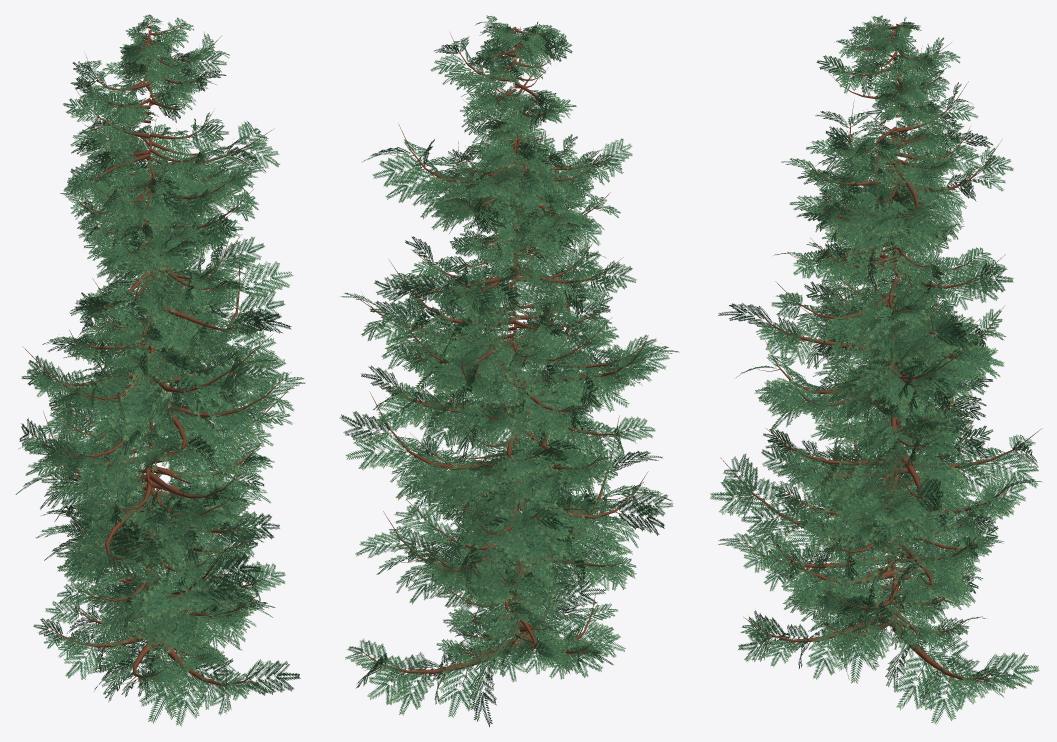
Rendered from forest-redwood-lod0.glb.
3 renders of one model, left to right at view 1: azimuth 30°, elevation 25°; view 2: azimuth 150°, elevation 25°; view 3: azimuth 270°, elevation 25°, orthographic. The views are drawn at different scales.
Visible parts, largest first — view 1: redwood-crown; view 2: redwood-crown; view 3: redwood-crown.
Boxes of the visible parts, x1=… form: redwood-crown: x1=15, y1=14, x2=305, y2=726; redwood-crown: x1=339, y1=15, x2=679, y2=727; redwood-crown: x1=710, y1=15, x2=1042, y2=724.
Bounding box in the file's own units: 21.16 × 45.63 × 20.98.
7 materials, 3 textured.
